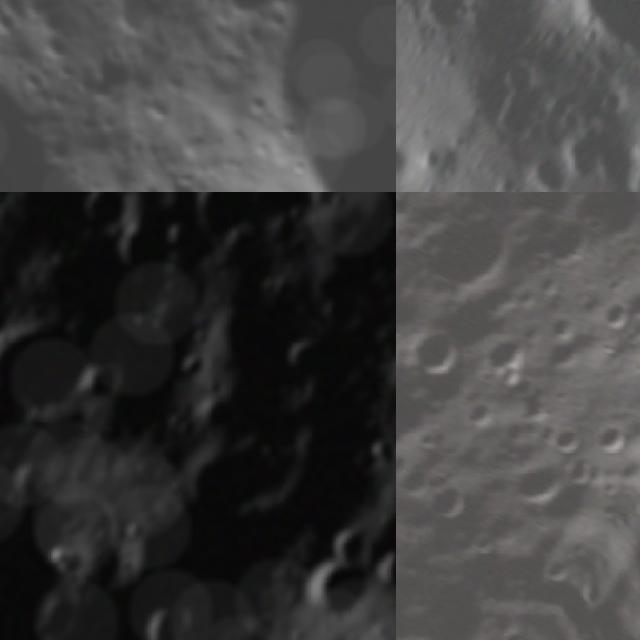crater: (117, 501, 271, 640), (409, 194, 524, 313), (36, 236, 135, 331), (0, 328, 96, 425), (176, 436, 284, 514), (293, 551, 373, 623), (116, 207, 169, 281), (403, 322, 466, 384), (483, 321, 544, 385), (396, 0, 491, 40), (183, 192, 259, 242), (550, 211, 610, 271), (76, 192, 136, 241), (162, 213, 210, 274), (0, 450, 47, 509), (514, 460, 567, 512), (136, 593, 193, 640), (516, 146, 574, 192), (321, 514, 372, 565), (27, 594, 78, 640), (280, 330, 322, 384), (313, 294, 361, 336), (550, 418, 592, 461), (595, 421, 635, 460), (351, 440, 386, 482), (81, 364, 113, 404), (371, 545, 396, 594), (566, 456, 601, 491), (598, 301, 632, 335), (0, 271, 16, 335), (178, 353, 210, 380)
